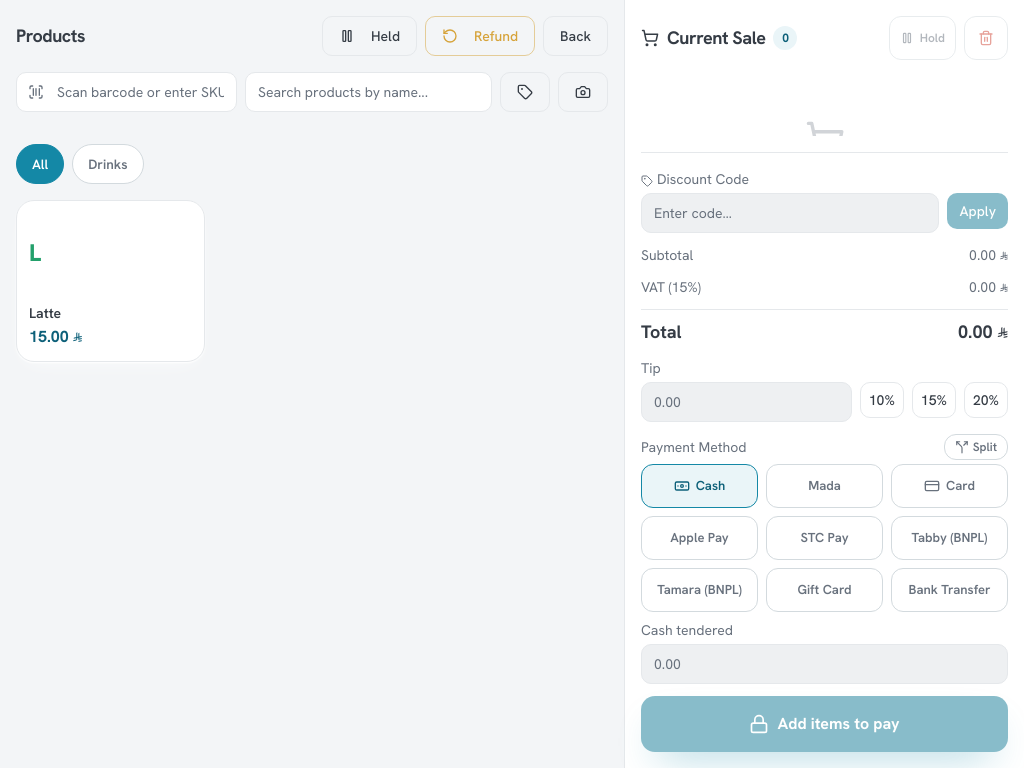
Test case: POSTerminal remove-discount a11y (#226) › names the remove-discount button for screen readers
Click the button "L Latte 15.00 ⃁" at (111, 281), box [16, 200, 205, 362]
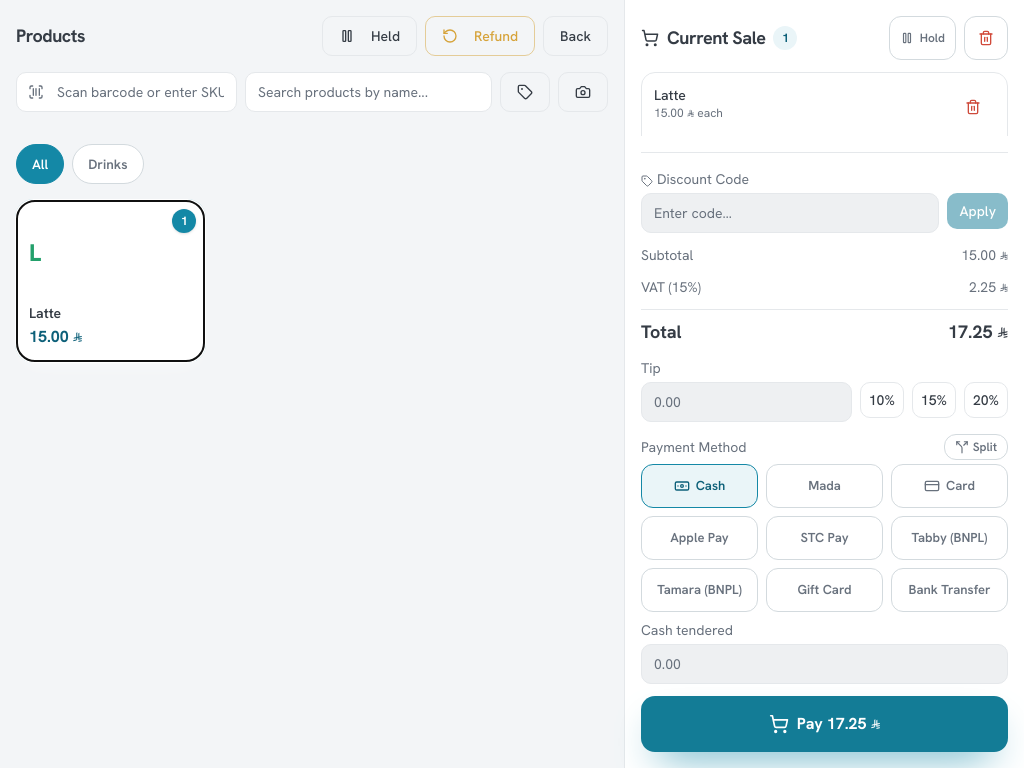
Type "SAVE10" into the field with placeholder "Enter code…" at (790, 213), box [641, 193, 940, 233]
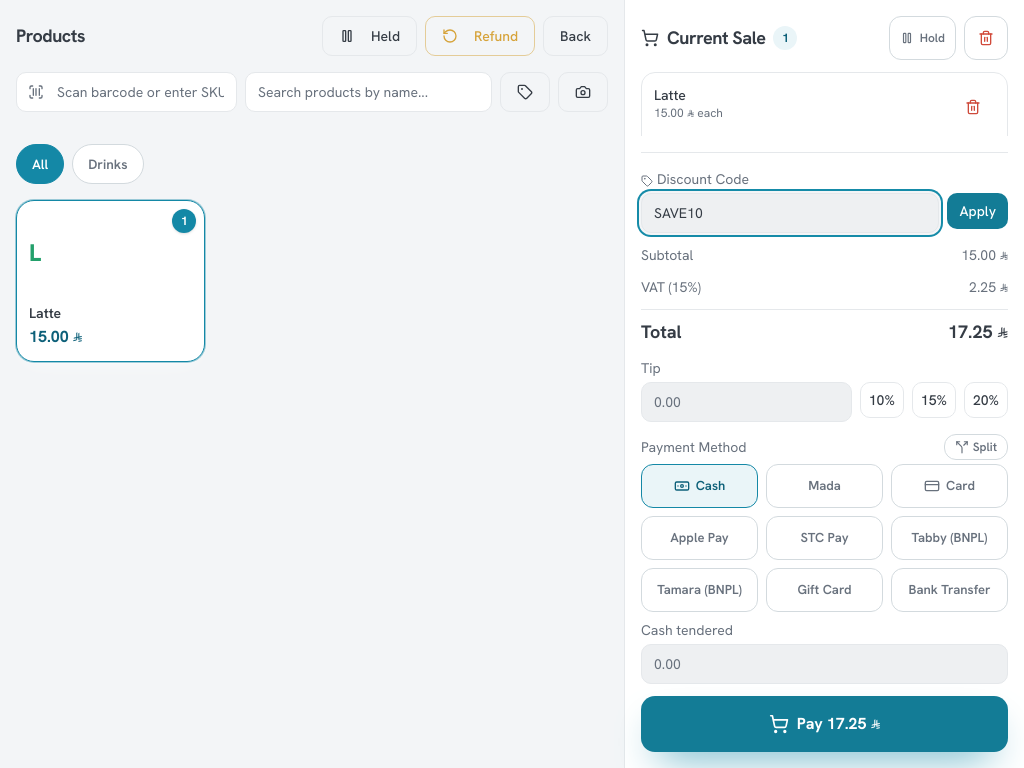
Click the button "Apply" at (978, 211), box [948, 193, 1008, 229]
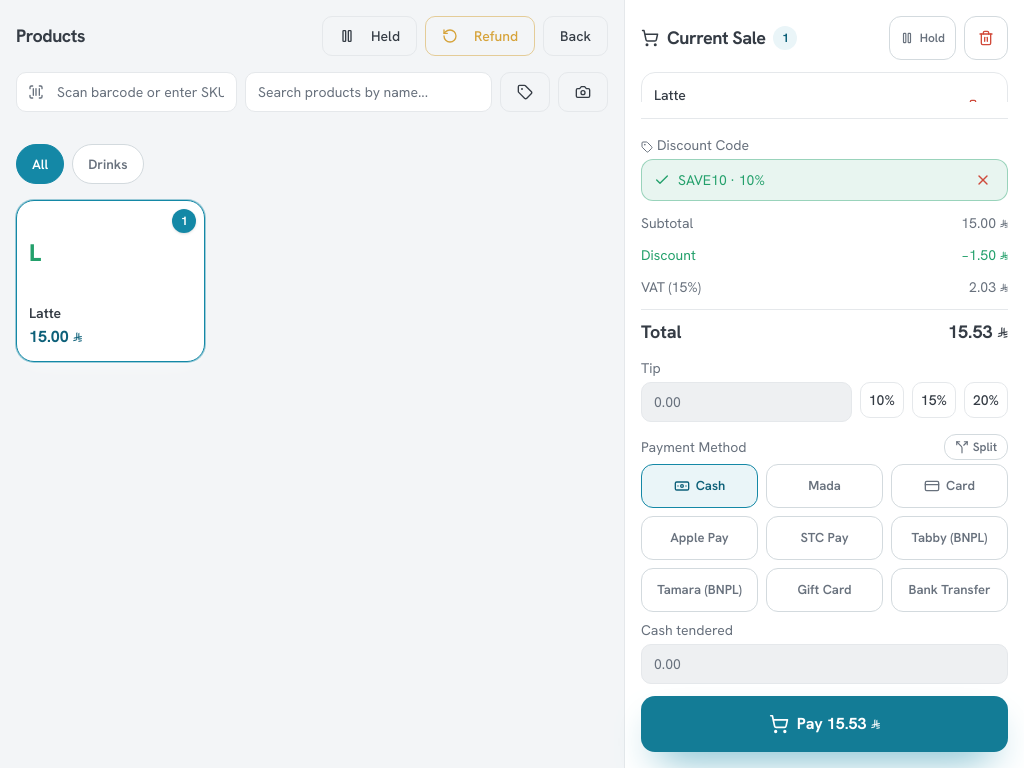
Result: the text "SAVE10 · 10%" is shown at [678, 171, 765, 189]
Result: the button named "remove discount" is shown at [971, 168, 995, 192]
